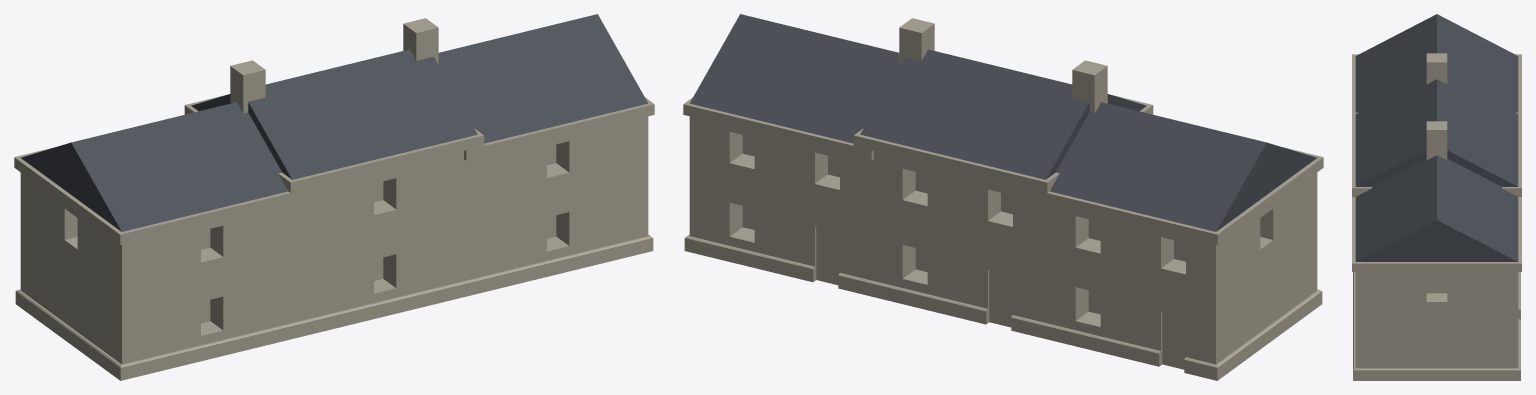
3 renders of one model, left to right at view 1: azimuth 30°, elevation 25°; view 2: azimuth 150°, elevation 25°; view 3: azimuth 270°, elevation 25°, orthographic. The views are drawn at different scales.
Visible parts, largest first — view 1: body_stone, roof_slate, trim_stone, roof_stone; view 2: body_stone, roof_slate, trim_stone, roof_stone; view 3: roof_slate, body_stone, trim_stone, roof_stone.
Part boxes in pixels (x1,y1,x2,y2): body_stone: [20, 26, 648, 364]; roof_slate: [21, 14, 648, 231]; trim_stone: [14, 95, 654, 380]; roof_stone: [230, 18, 438, 77]; body_stone: [689, 26, 1317, 369]; roof_slate: [689, 14, 1316, 231]; trim_stone: [683, 95, 1323, 380]; roof_stone: [899, 18, 1107, 77]; roof_slate: [1355, 14, 1518, 261]; body_stone: [1355, 64, 1518, 368]; trim_stone: [1352, 54, 1521, 380]; roof_stone: [1426, 53, 1447, 131].
Size of what is drawn, in the model's own units: 21.32 by 8.8 by 7.32.
